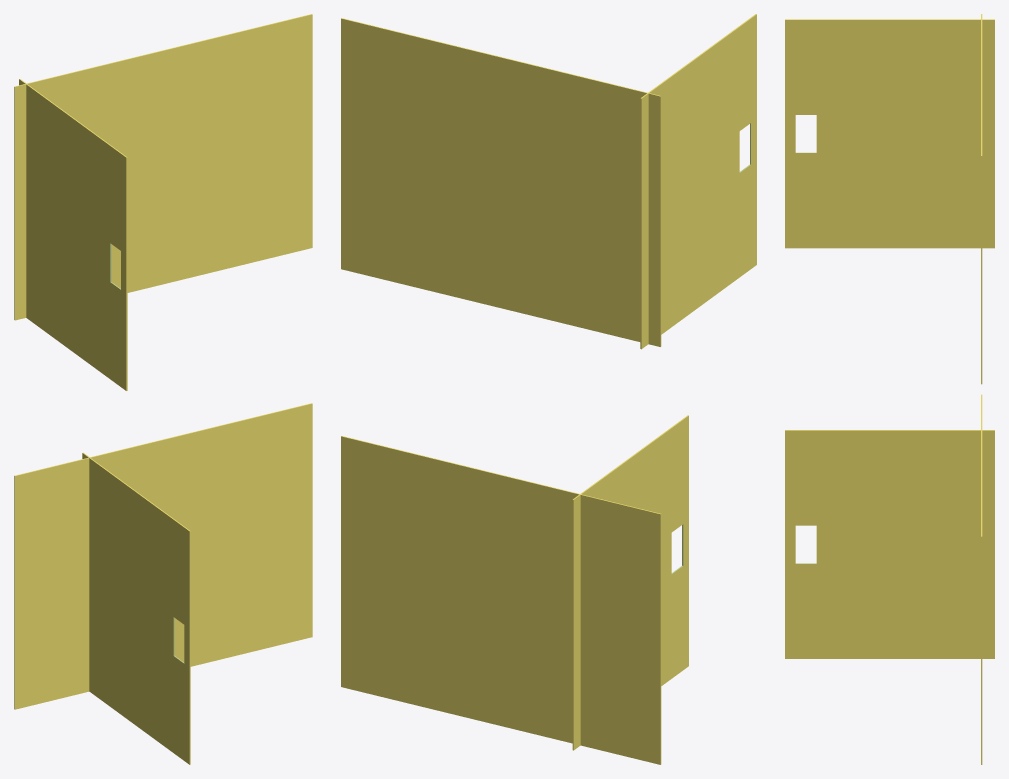
The model's file is Chassis03-L.glb.
3 renders of one model, left to right at view 1: azimuth 30°, elevation 25°; view 2: azimuth 150°, elevation 25°; view 3: azimuth 270°, elevation 25°, orthographic. The views are drawn at different scales.
Parts seen in each view (by area): view 1: OpenSCAD Model; view 2: OpenSCAD Model; view 3: OpenSCAD Model.
Part boxes in pixels (<box>): OpenSCAD Model: <box>14,14,312,764</box>; OpenSCAD Model: <box>341,14,756,764</box>; OpenSCAD Model: <box>785,14,994,764</box>.
Size of the model in its own units: 800 by 1600 by 500.
